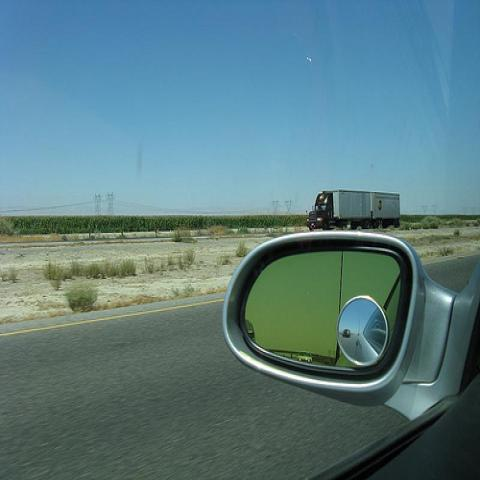car: (222, 229, 479, 479)
truck: (306, 190, 402, 232), (296, 350, 313, 364)
